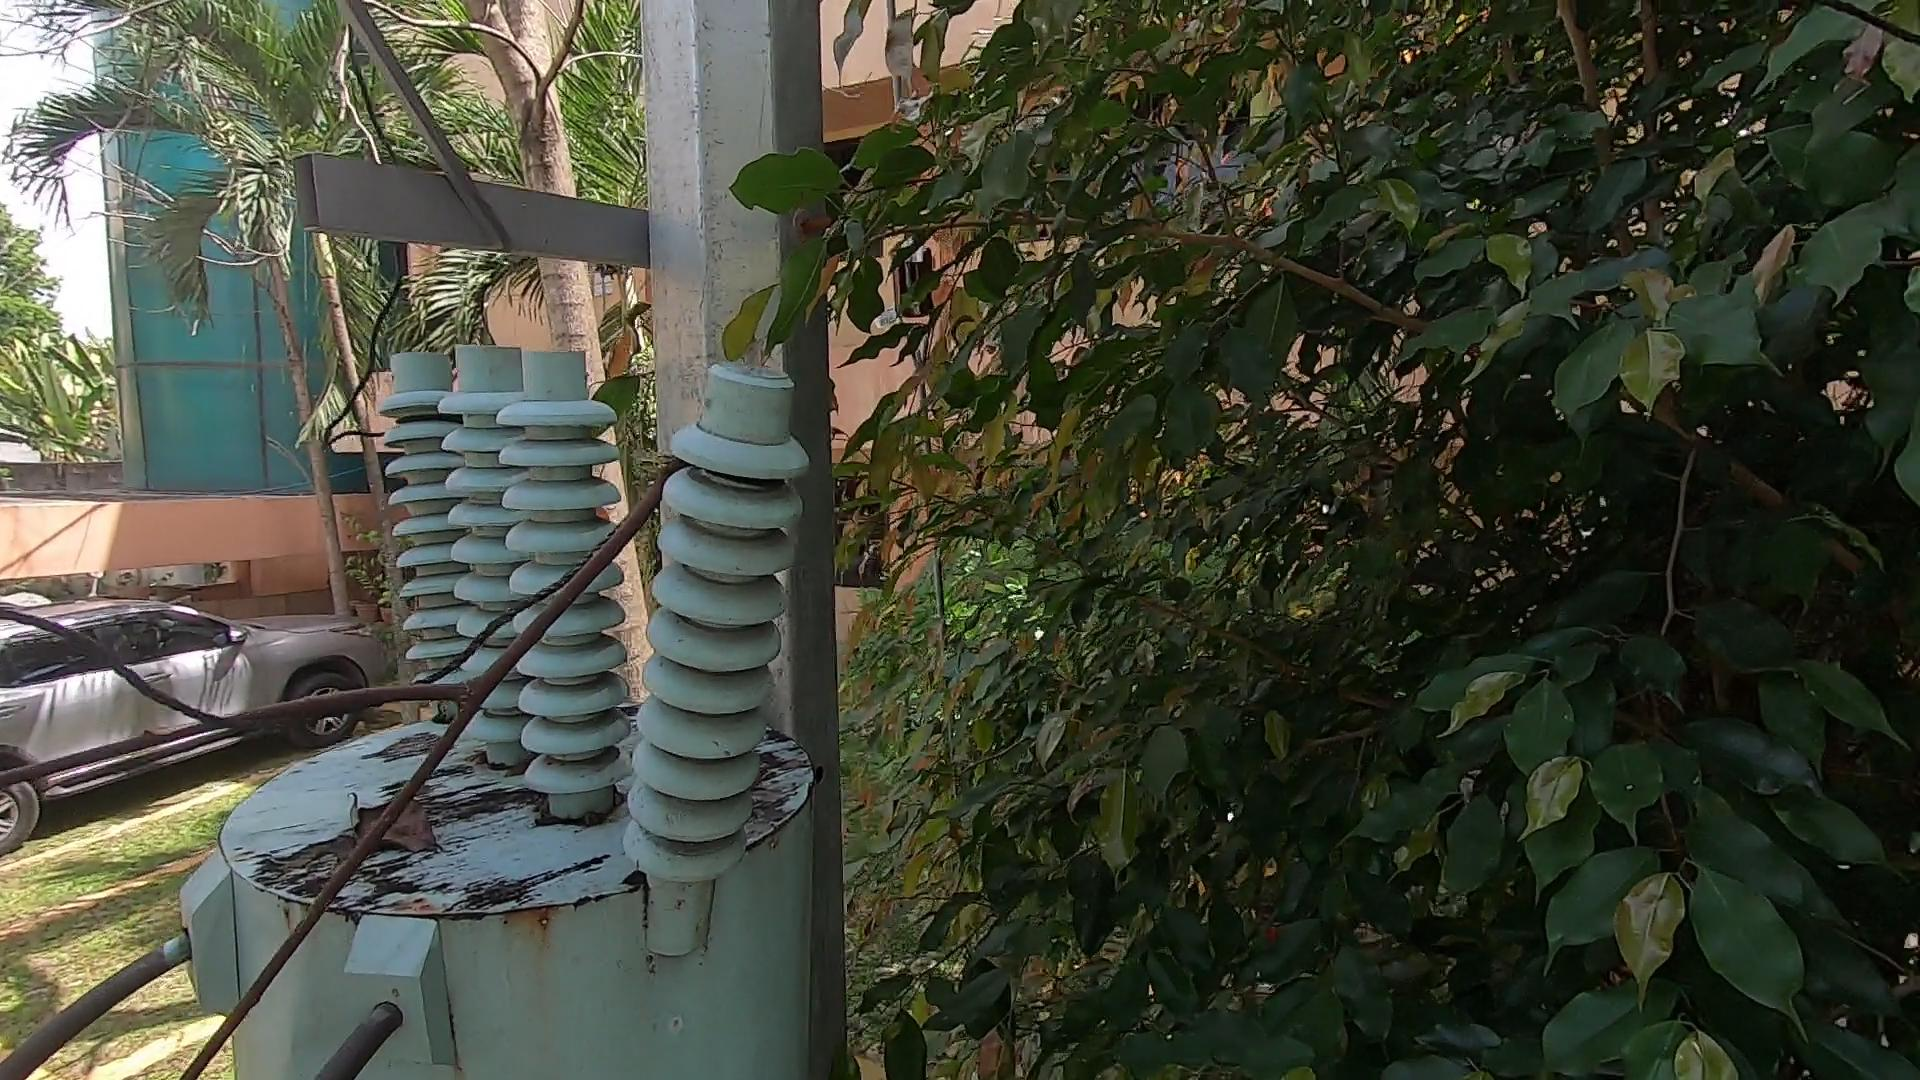leaf: (345, 798, 469, 872)
tree branch: (7, 450, 727, 1080)
